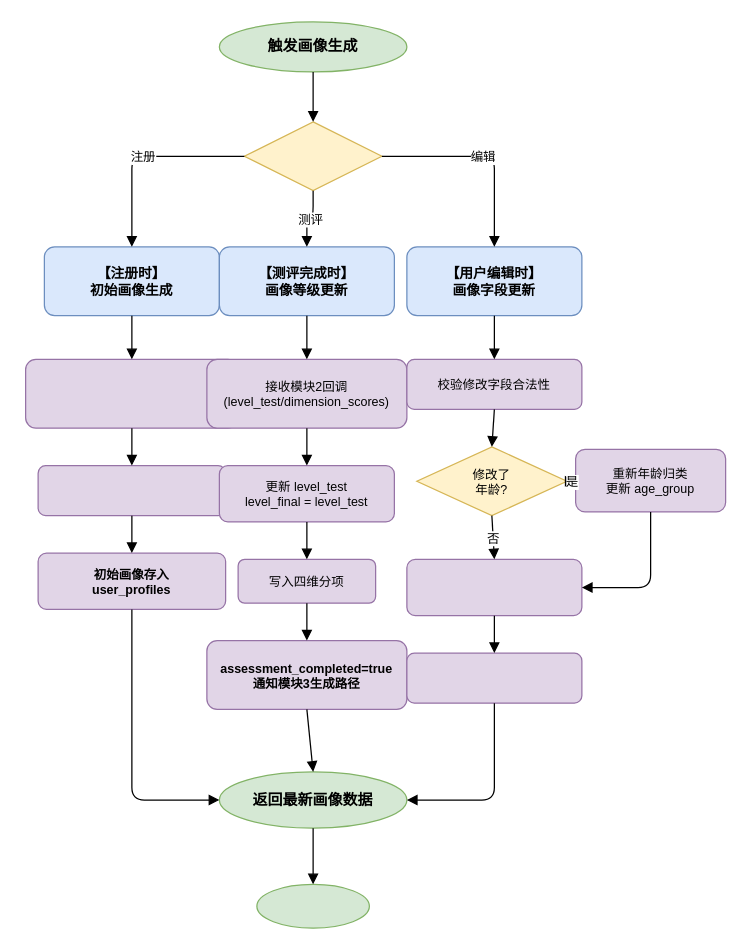
Some shapes in this 748 by 950 pixel diagram are drawn without their labels. Here are the shapes that lost their labels. From the top down, the centre of each, then its label:
[312,156]: 触发场景?
[131,393]: 收集注册字段 (username/age/goal/interests/level_self)
[131,490]: 调用年龄归类 → age_group
[494,587]: 更新对应字段到 user_profiles
[494,677]: 通知模块9刷新推荐
[312,905]: 结束
